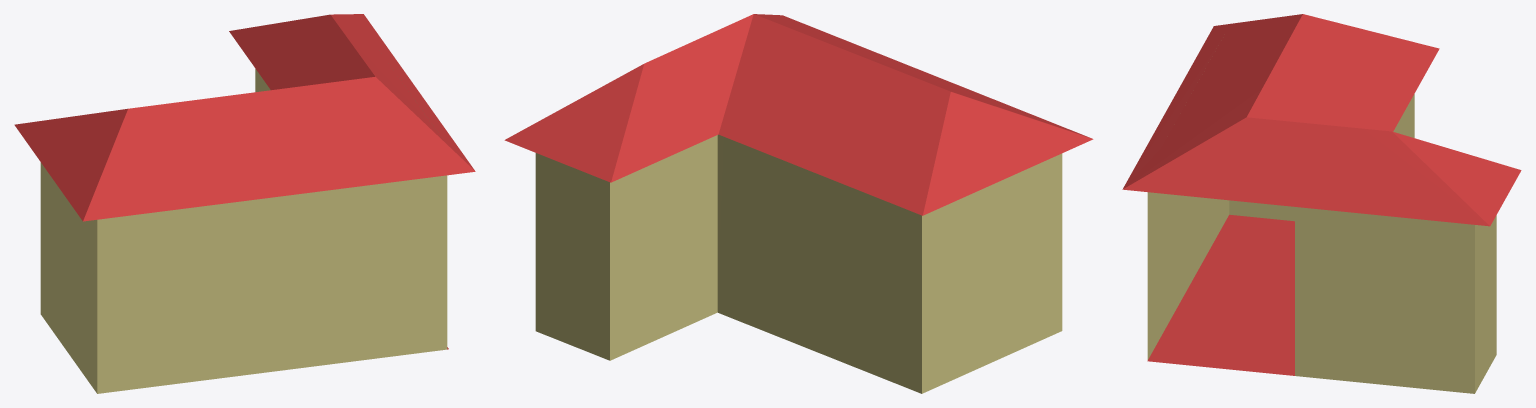
3 renders of one model, left to right at view 1: azimuth 30°, elevation 25°; view 2: azimuth 150°, elevation 25°; view 3: azimuth 270°, elevation 25°, orthographic. The views are drawn at different scales.
Visible parts, largest first — view 1: group_5, group_3, group_4; view 2: group_5, group_3, group_4; view 3: group_3, group_5, group_6, group_4.
Part boxes in pixels (left/top/right/bottom): group_5: left=40, top=69, right=447, bottom=393; group_3: left=14, top=14, right=475, bottom=220; group_4: left=83, top=26, right=474, bottom=221; group_5: left=535, top=134, right=1062, bottom=393; group_3: left=504, top=14, right=1093, bottom=215; group_4: left=584, top=17, right=1091, bottom=215; group_3: left=1123, top=14, right=1521, bottom=226; group_5: left=1147, top=94, right=1496, bottom=393; group_6: left=1147, top=214, right=1294, bottom=375; group_4: left=1122, top=23, right=1520, bottom=191.
Bounding box in the file's own units: 17.18 × 14.47 × 9.33.
